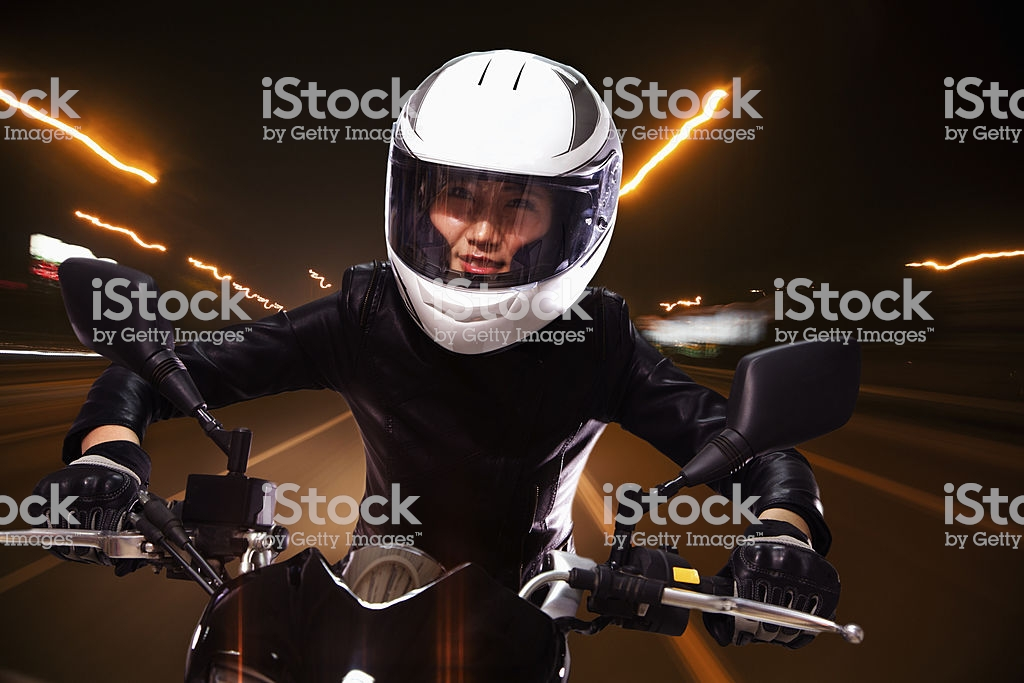helmet: (374, 62, 619, 339)
